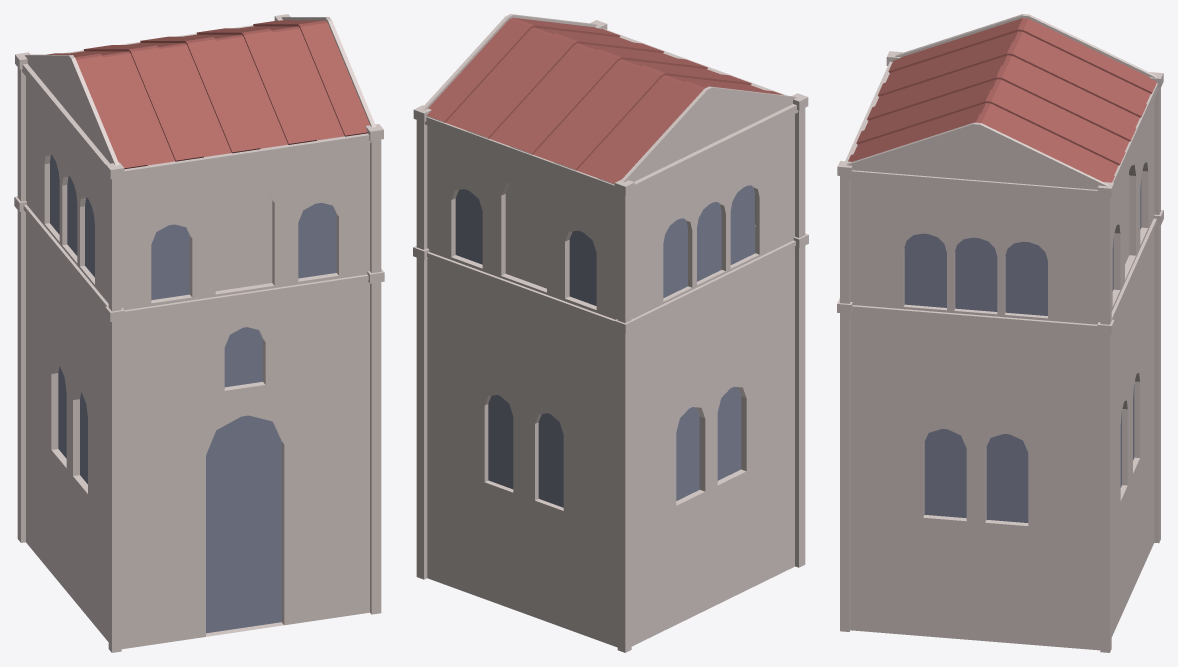
Rendered from building_2.glb.
3 views of the same model, side by side, from view 1: azimuth 30°, elevation 25°; view 2: azimuth 150°, elevation 25°; view 3: azimuth 270°, elevation 25° (orthographic). The views are drawn at different scales.
Visible parts, largest first — view 1: Cube.1081; view 2: Cube.1081; view 3: Cube.1081.
Boxes of the visible parts, <box> form: Cube.1081: <box>14,14,384,652</box>; Cube.1081: <box>413,14,808,652</box>; Cube.1081: <box>837,14,1163,652</box>.
Size of the model in its own units: 0.1536 by 0.2683 by 0.1538.
